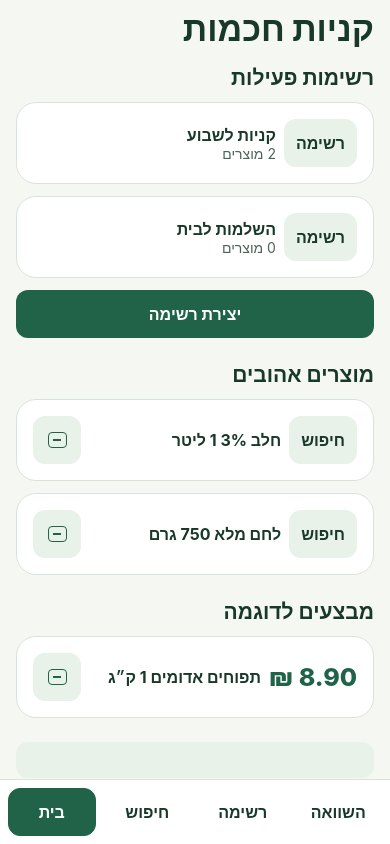
Test: creates a list, selects a suggestion, and adds and adjusts a brand product
Later steps or results of the test are not shown.
Click the button "יצירת רשימה" at (195, 314), box [16, 290, 374, 338]
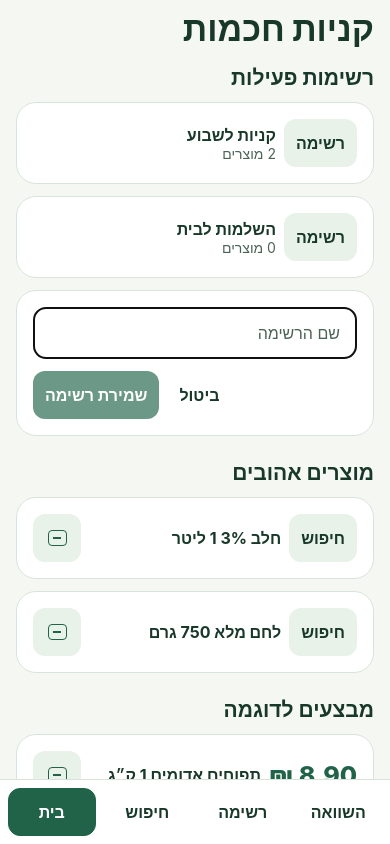
Type "קניות לסוף השבוע" into the field labelled "שם הרשימה" at (195, 333), box [33, 307, 357, 359]
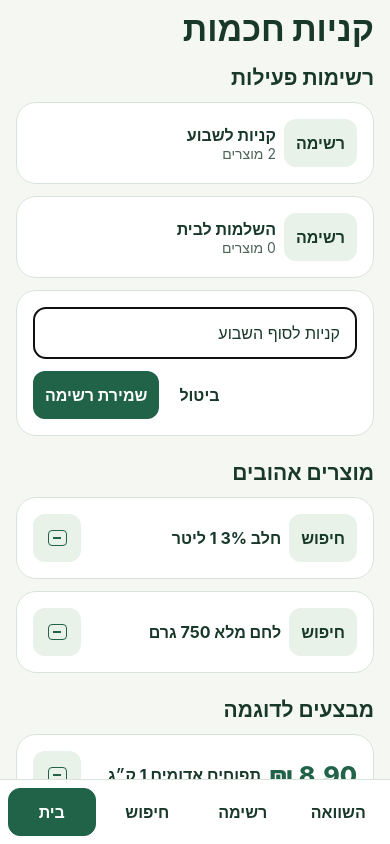
Click the button "שמירת רשימה" at (96, 395), box [33, 371, 159, 419]
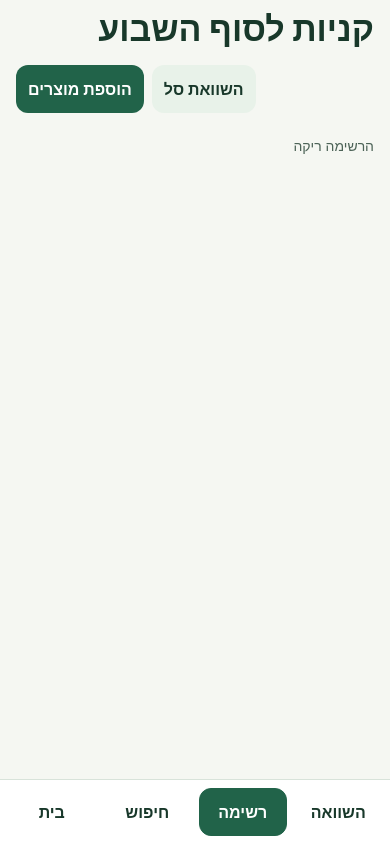
Expected: the text "הרשימה ריקה" is shown, [293, 137, 374, 154]
Click the button "הוספת מוצרים" at (80, 89), box [16, 65, 144, 113]
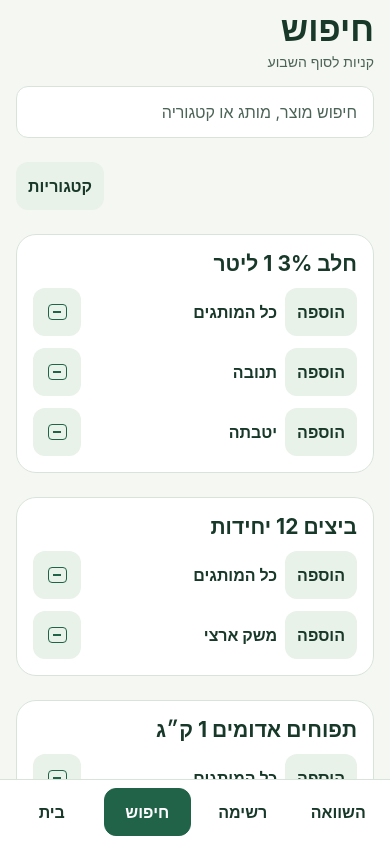
Type "תנובה" into the field labelled "חיפוש מוצר, מותג או קטגוריה" at (195, 112), box [16, 86, 374, 138]
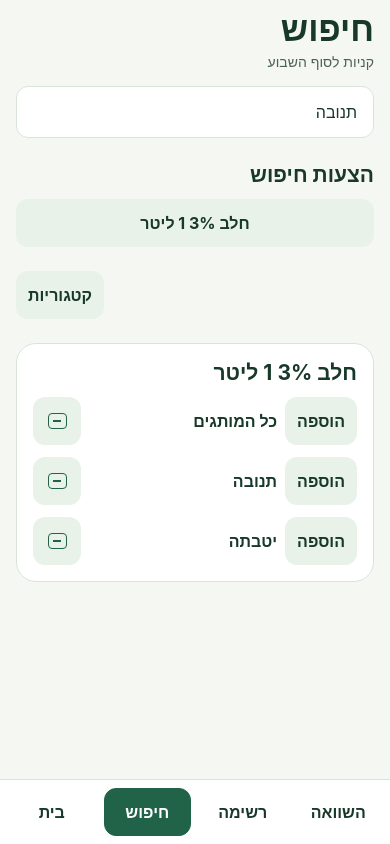
Click the button "חלב 3% 1 ליטר" at (195, 223), box [16, 199, 374, 247]
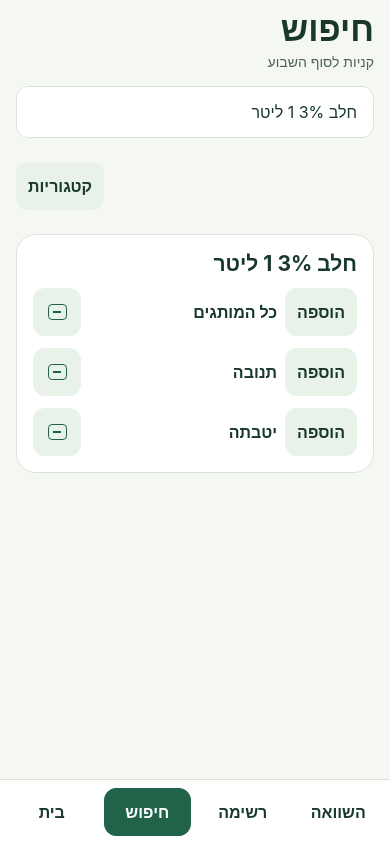
Expected: the heading "הצעות חיפוש" is gone
